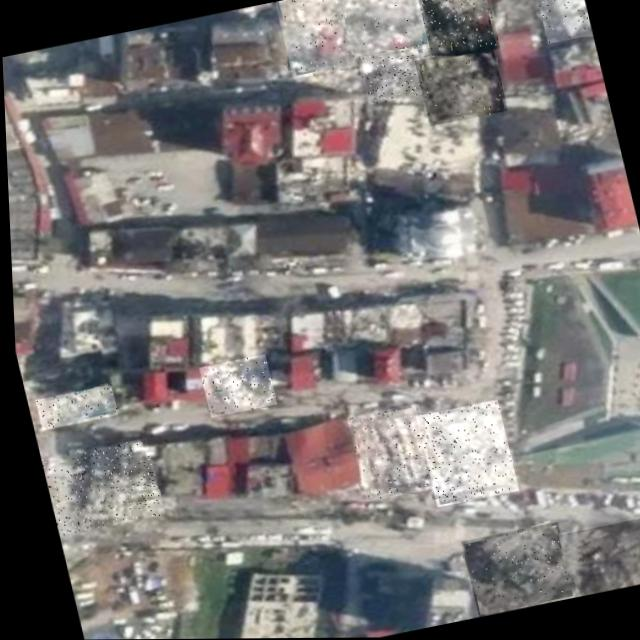Rubble: (36, 437, 161, 535), (411, 399, 515, 507), (455, 522, 571, 617), (342, 403, 435, 502), (552, 509, 640, 598), (414, 45, 507, 126), (274, 0, 358, 78), (334, 0, 433, 63), (413, 0, 500, 62), (195, 353, 274, 417), (357, 45, 428, 105), (31, 384, 115, 429), (534, 0, 593, 44)
